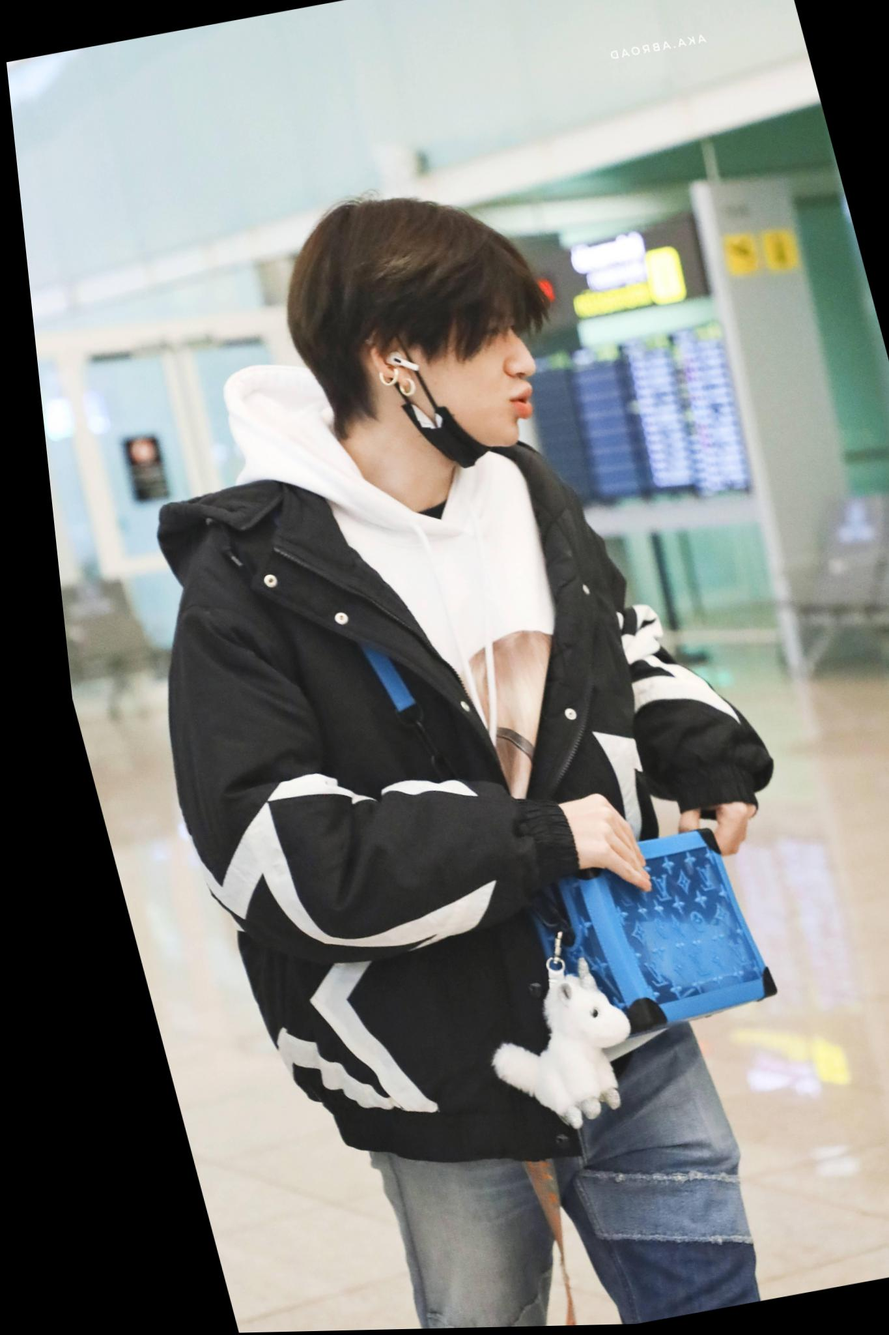WRONG: (399, 298, 550, 471)
